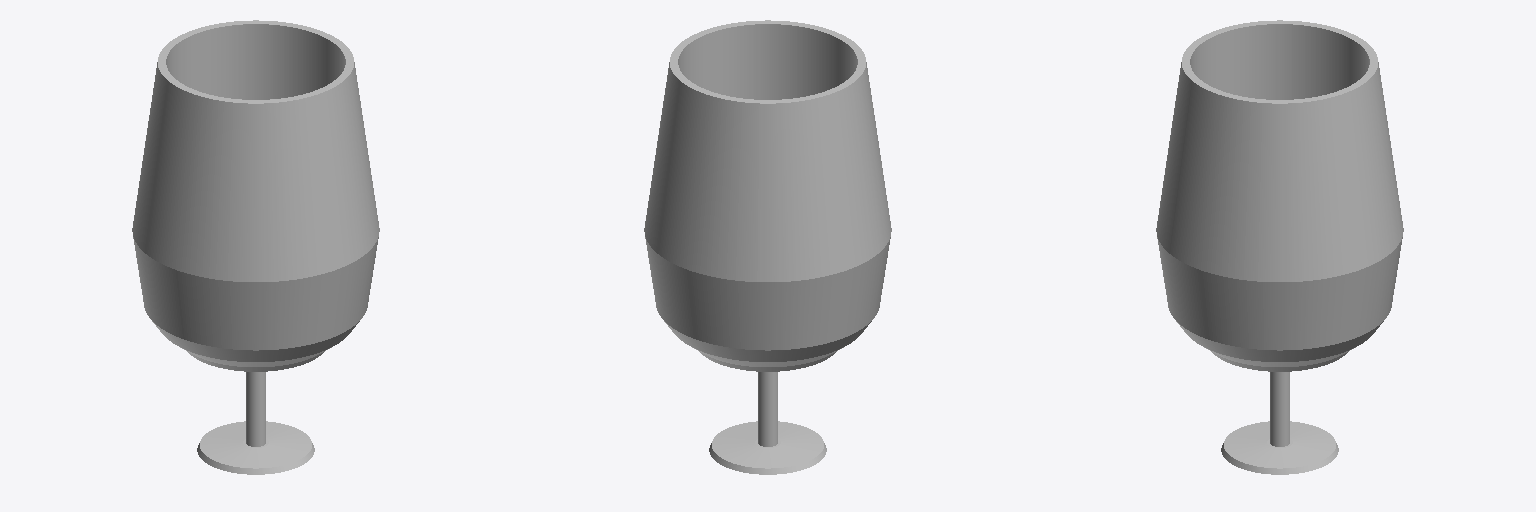
Rendered from copa final.obj.
The picture shows the model from 3 angles: view 1: azimuth 30°, elevation 25°; view 2: azimuth 150°, elevation 25°; view 3: azimuth 270°, elevation 25°; orthographic projection.
Visible parts, largest first — view 1: Cylinder_Cylinder.001; view 2: Cylinder_Cylinder.001; view 3: Cylinder_Cylinder.001.
Part boxes in pixels (x1,y1,x2,y2): Cylinder_Cylinder.001: (132, 20, 379, 474); Cylinder_Cylinder.001: (644, 20, 891, 474); Cylinder_Cylinder.001: (1156, 20, 1403, 474).
Bounding box in the file's own units: 1.05 × 1.82 × 1.05.